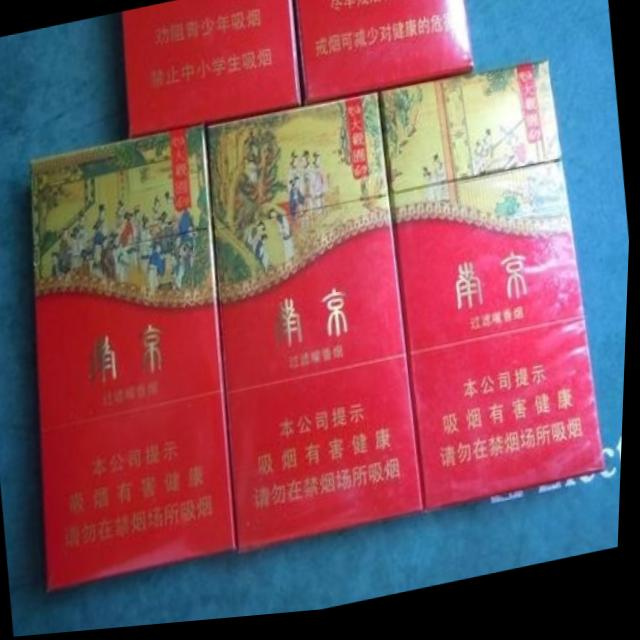box: (381, 68, 609, 519), (208, 99, 427, 558), (32, 129, 239, 594), (122, 0, 301, 138), (296, 0, 473, 111)
